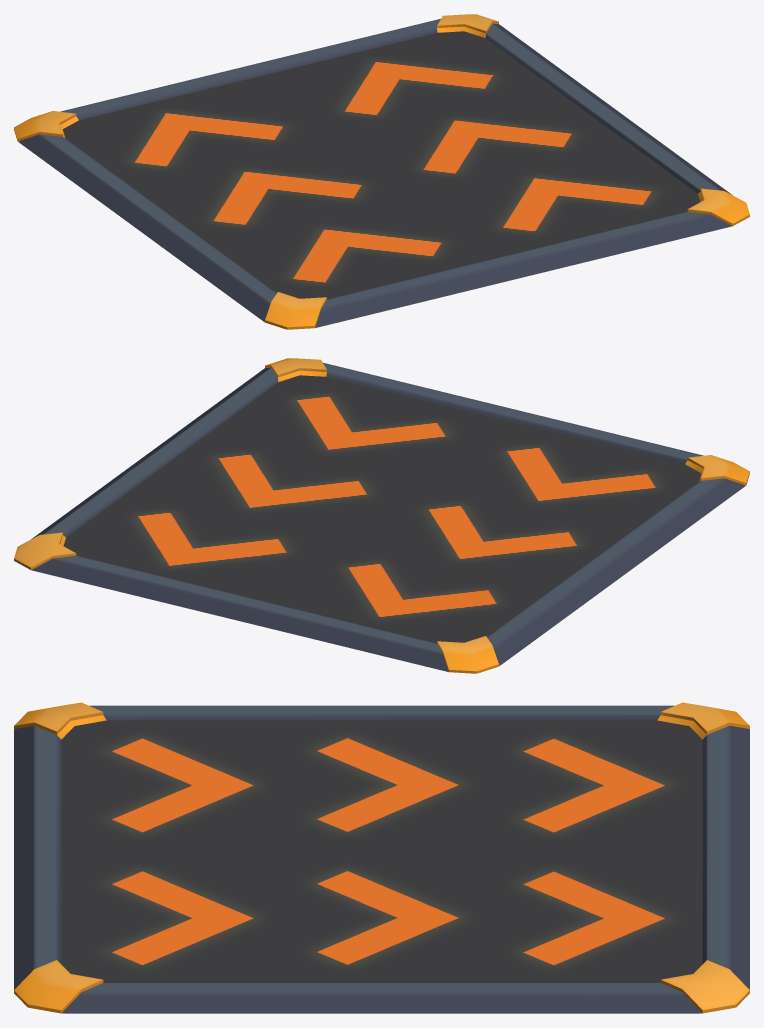
Rendered from accelerating_pad_2.fbx.
3 views of the same model, one above another, from view 1: azimuth 30°, elevation 25°; view 2: azimuth 150°, elevation 25°; view 3: azimuth 270°, elevation 25° (orthographic). The views are drawn at different scales.
Parts seen in each view (by area): view 1: Plane.001; view 2: Plane.001; view 3: Plane.001.
Boxes of the visible parts, box(x1,y1,x2,y2) form: Plane.001: box(14, 14, 749, 329); Plane.001: box(14, 358, 749, 673); Plane.001: box(14, 702, 749, 1013).
Size of the model in its own units: 734 by 17.35 by 750.
